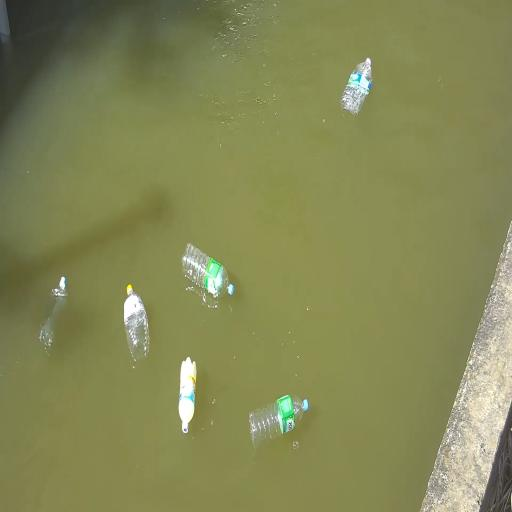plastic: (250, 395, 308, 447), (182, 244, 233, 298), (40, 277, 67, 352), (124, 285, 149, 361), (340, 58, 372, 115), (179, 357, 196, 433)
